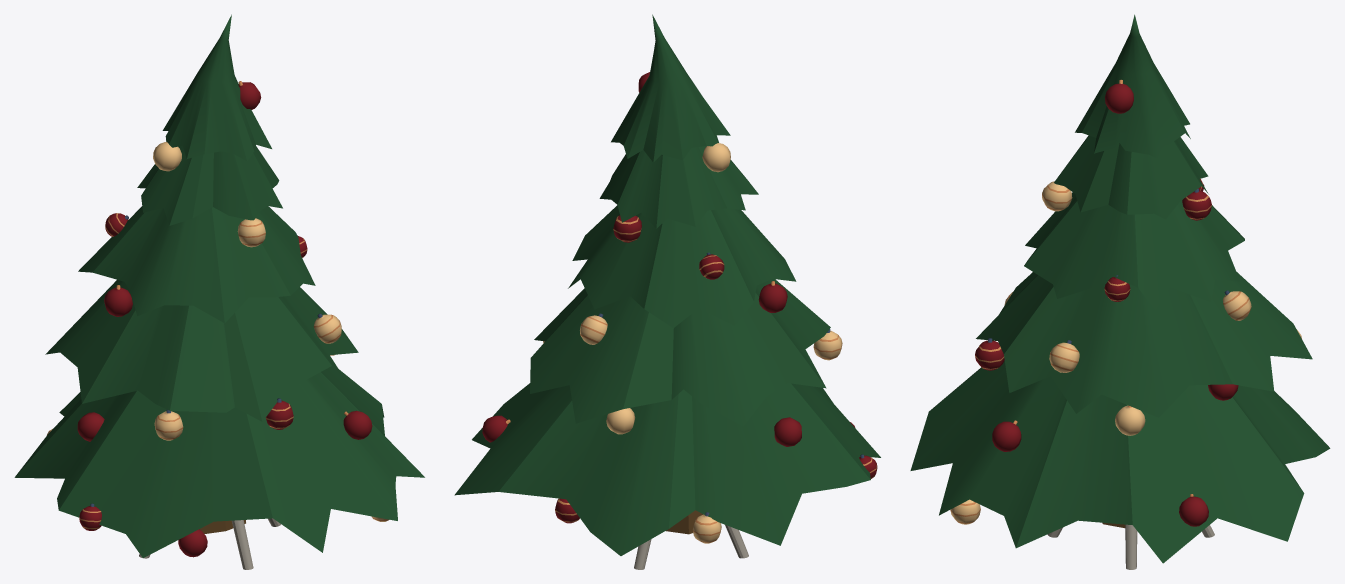
File: Christmas_tree.fbx
3 renders of one model, left to right at view 1: azimuth 30°, elevation 25°; view 2: azimuth 150°, elevation 25°; view 3: azimuth 270°, elevation 25°, orthographic. The views are drawn at different scales.
Visible parts, largest first — view 1: Christmast_tree, Baubles_decor; view 2: Christmast_tree, Baubles_decor; view 3: Christmast_tree, Baubles_decor.
Part boxes in pixels (<box>): Christmast_tree: <box>14,14,424,569</box>; Baubles_decor: <box>47,81,389,557</box>; Christmast_tree: <box>454,14,880,569</box>; Baubles_decor: <box>482,72,877,543</box>; Christmast_tree: <box>910,14,1330,569</box>; Baubles_decor: <box>950,79,1301,526</box>.
Bounding box in the file's own units: 1.5 × 2.06 × 1.47.
